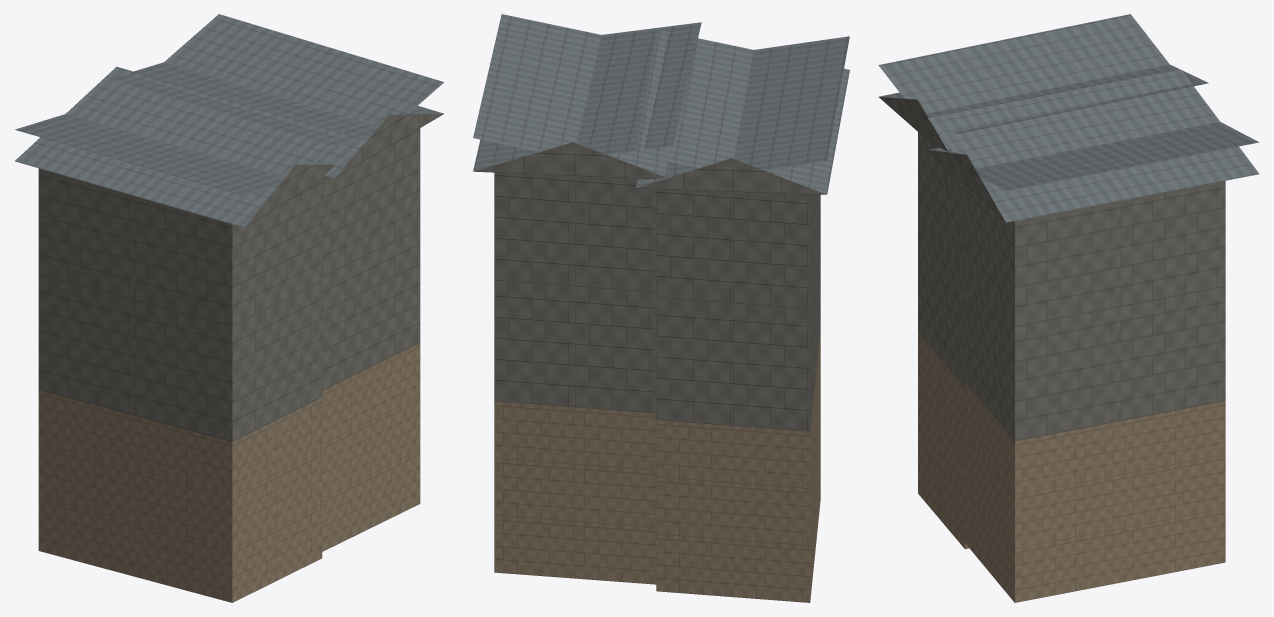
File: bld_c-2_17_532.gltf
3 views of the same model, side by side, from view 1: azimuth 30°, elevation 25°; view 2: azimuth 150°, elevation 25°; view 3: azimuth 270°, elevation 25° (orthographic). The views are drawn at different scales.
Parts seen in each view (by area): view 1: bld_c-2_17_532; view 2: bld_c-2_17_532; view 3: bld_c-2_17_532.
Part boxes in pixels (x1,y1,x2,y2): bld_c-2_17_532: (15,14,444,602); bld_c-2_17_532: (473,14,849,602); bld_c-2_17_532: (878,14,1259,602).
Bounding box in the file's own units: 12.2 × 13.5 × 10.9.
4 materials, 4 textured.
